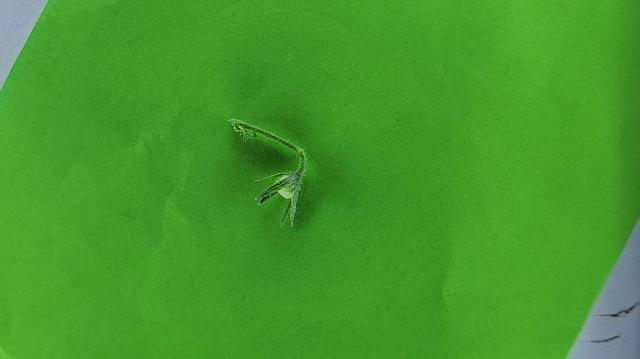Fruit Bud: (251, 169, 302, 227)
